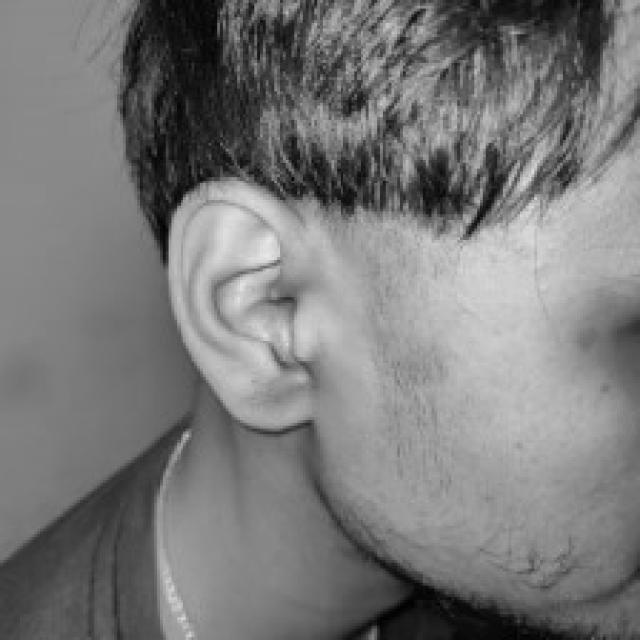ear: (171, 180, 306, 426)
